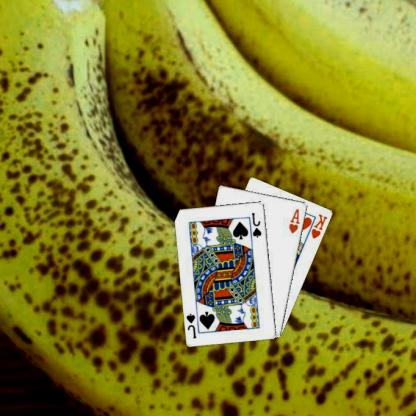AH: (289, 206, 303, 234)
JS: (251, 210, 265, 238), (186, 311, 200, 339)
KH: (310, 211, 330, 240)
